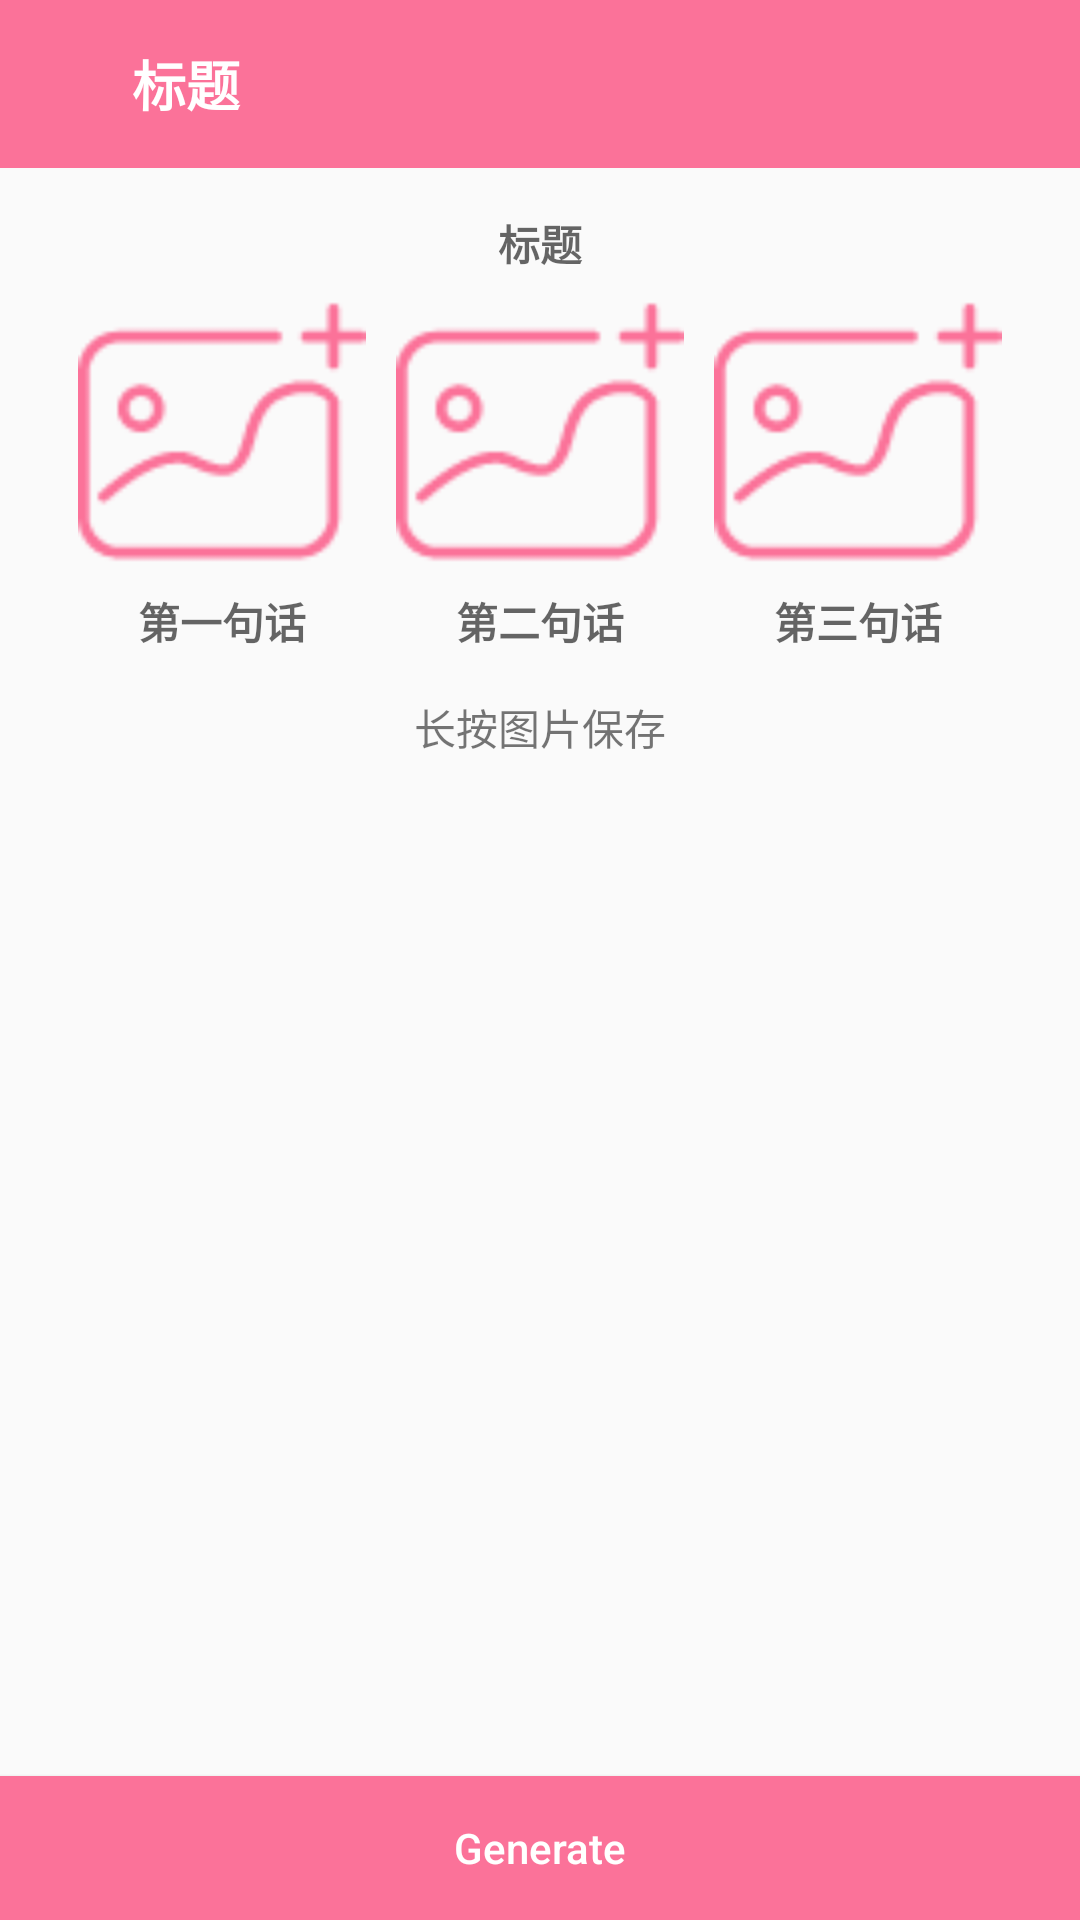

Where icons sit on this 1080 × 1920 app screen, as (x1, y1, x2, y2):
add pic: (78, 303, 366, 561), (396, 303, 684, 561), (714, 303, 1002, 561)
